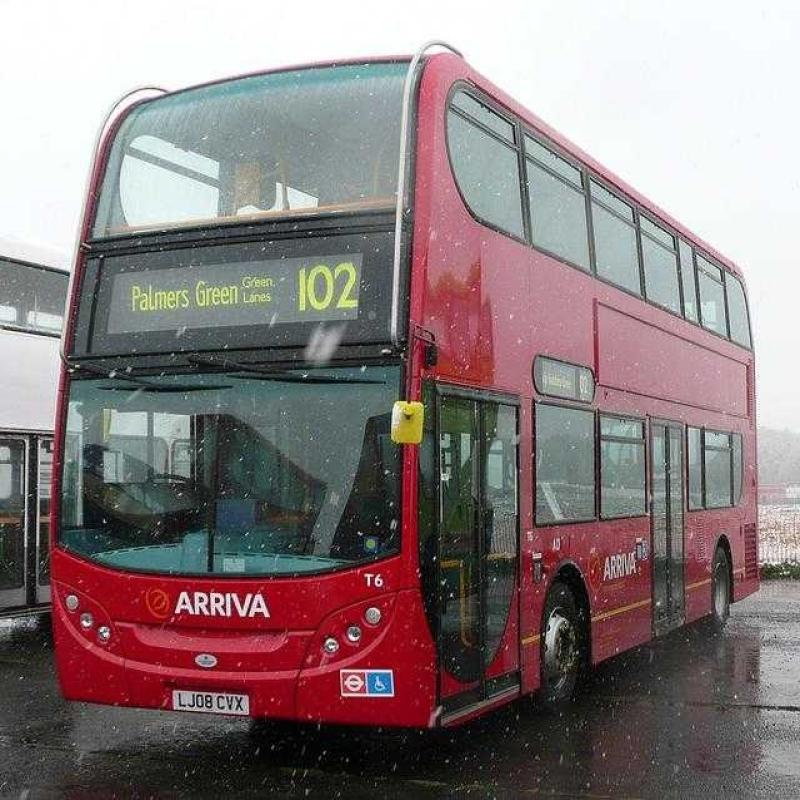bus: (54, 56, 748, 737)
